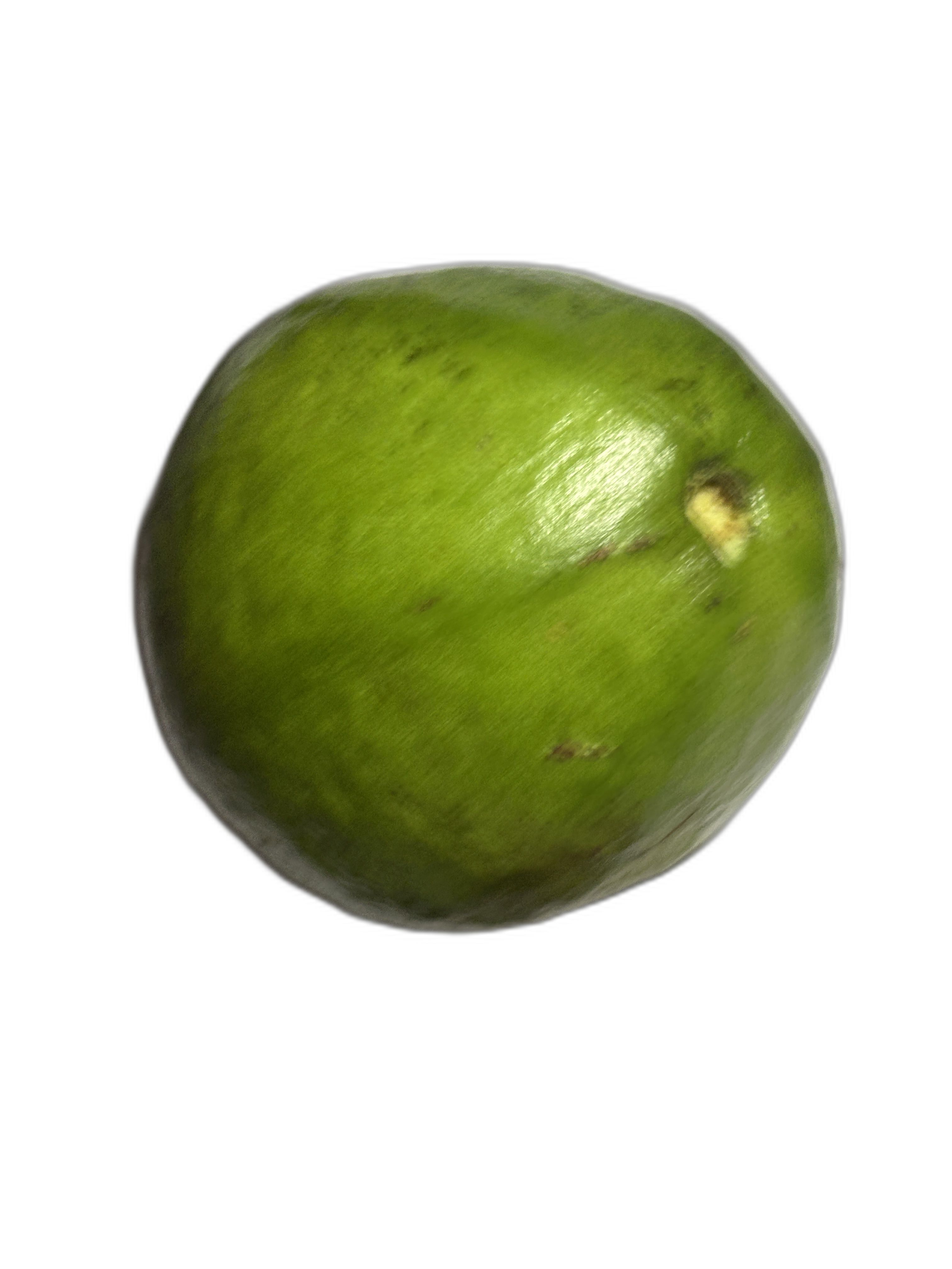guava: (164, 129, 831, 1269)
